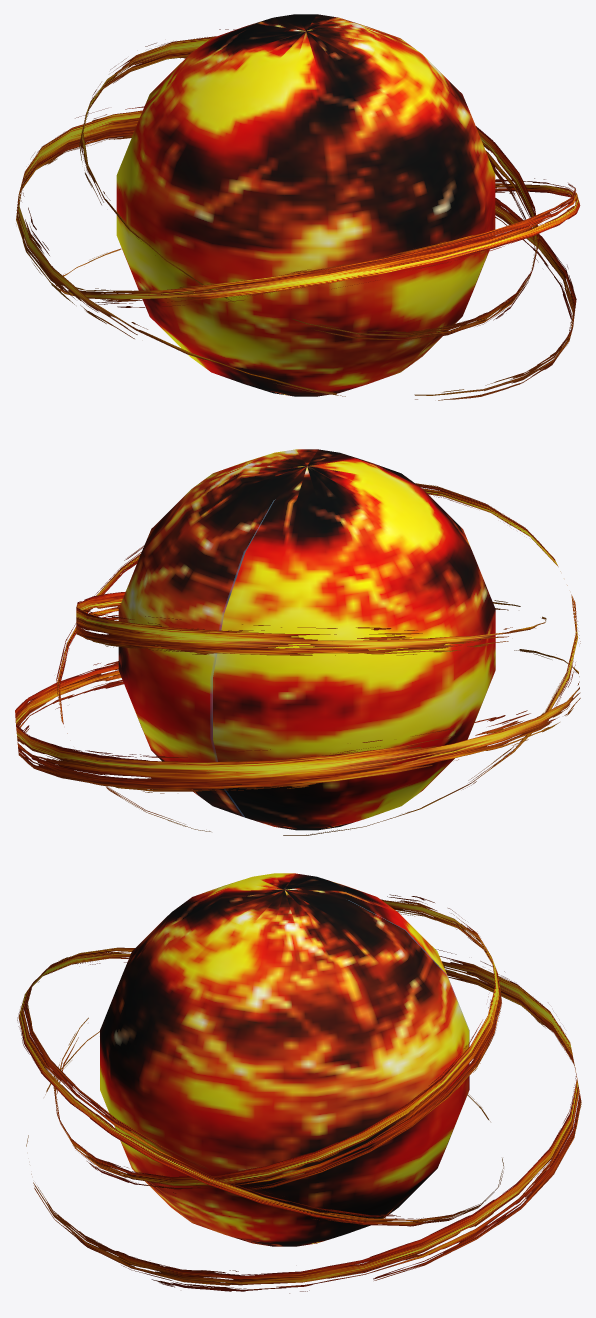
The model's file is fbx_skill_x_102_staff_skill_7.FBX.
3 renders of one model, top to bottom at view 1: azimuth 30°, elevation 25°; view 2: azimuth 150°, elevation 25°; view 3: azimuth 270°, elevation 25°, orthographic. The views are drawn at different scales.
Parts seen in each view (by area): view 1: Sphere001; view 2: Sphere001; view 3: Sphere001.
Boxes of the visible parts, x1,y1,x2,y2 form: Sphere001: (16, 14, 580, 400); Sphere001: (15, 449, 580, 835); Sphere001: (17, 873, 581, 1293).
Bounding box in the file's own units: 91.38 × 93.28 × 61.67.
Materials: 1 (1 with a texture image).
